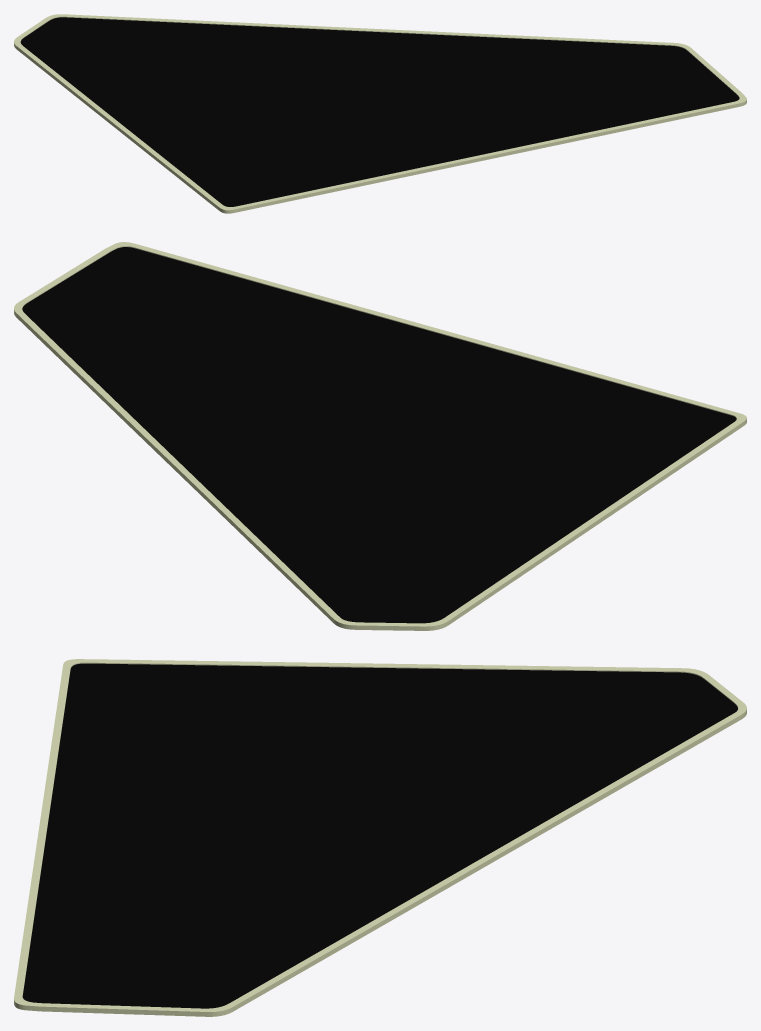
Rendered from SM_Building2Base.fbx.
3 renders of one model, top to bottom at view 1: azimuth 30°, elevation 25°; view 2: azimuth 150°, elevation 25°; view 3: azimuth 270°, elevation 25°, orthographic. The views are drawn at different scales.
Visible parts, largest first — view 1: SM_Building2Base; view 2: SM_Building2Base; view 3: SM_Building2Base.
Part boxes in pixels (x1,y1,x2,y2): SM_Building2Base: (14, 14, 746, 213); SM_Building2Base: (14, 242, 746, 630); SM_Building2Base: (14, 659, 746, 1016).
Size of the model in its own units: 5619 by 35.7 by 4931.
